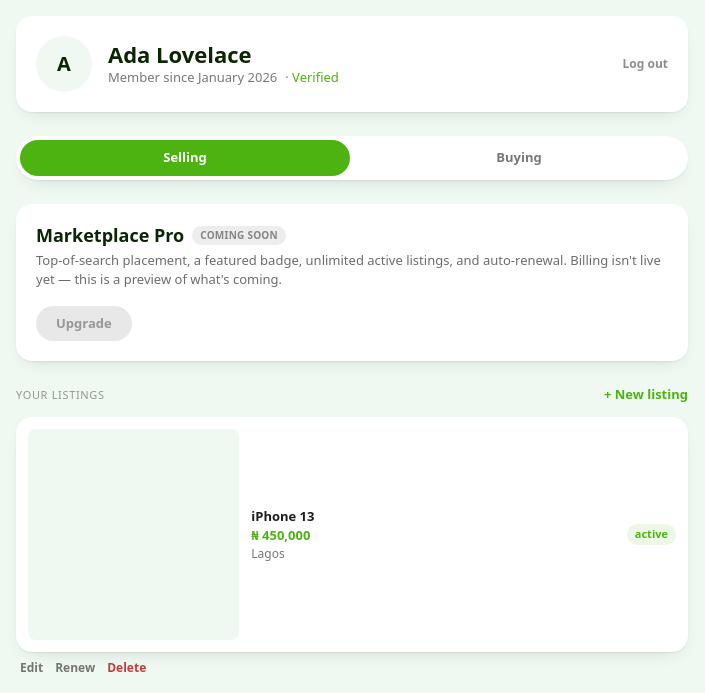
ProfilePage › removes a listing from the Selling tab after deleting it
This screenshot has width=705, height=693.
Expected: the text "iPhone 13" is shown, top-left (251, 507), bottom-right (314, 525)
What coordinates should you click on to do the following:
click the button "Delete"
I would click on:
 (127, 668)
Its box is top-left (107, 660), bottom-right (146, 677).
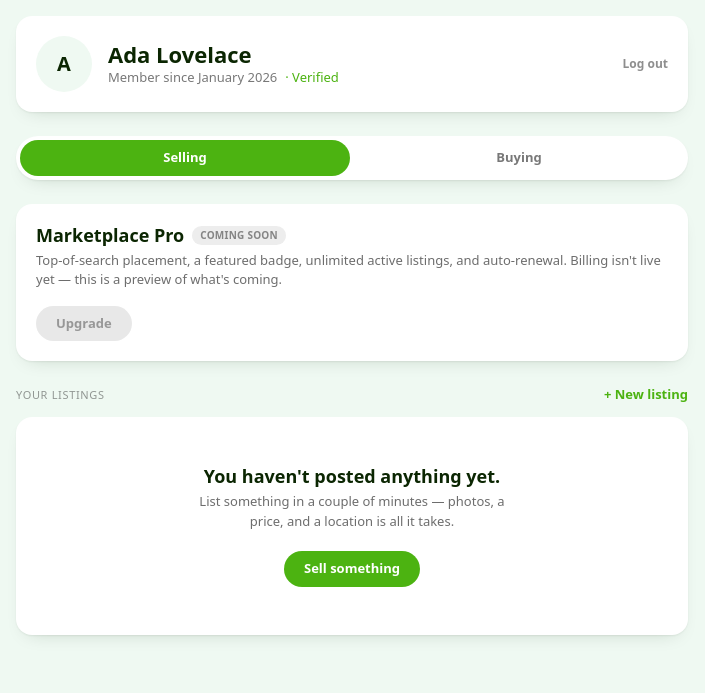
Expected: the link "iPhone 13" is gone
